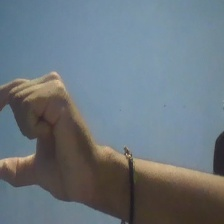G: (1, 65, 96, 208)
